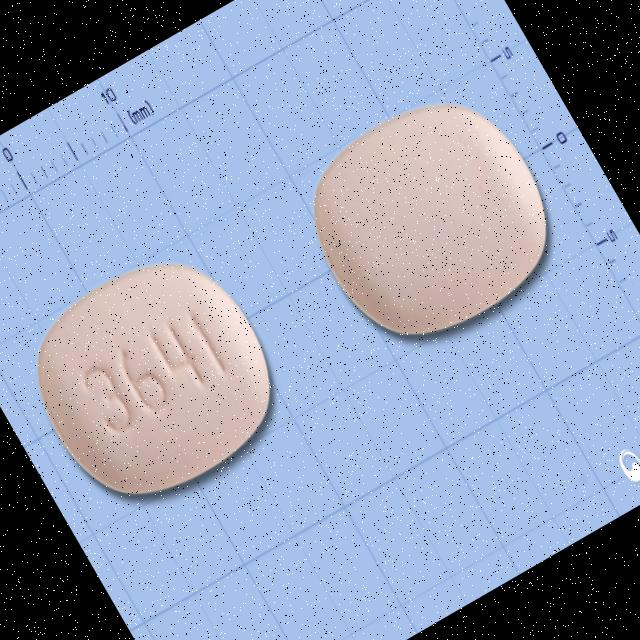Ciprocin - 259mg: (4, 229, 306, 528), (279, 68, 580, 367)
